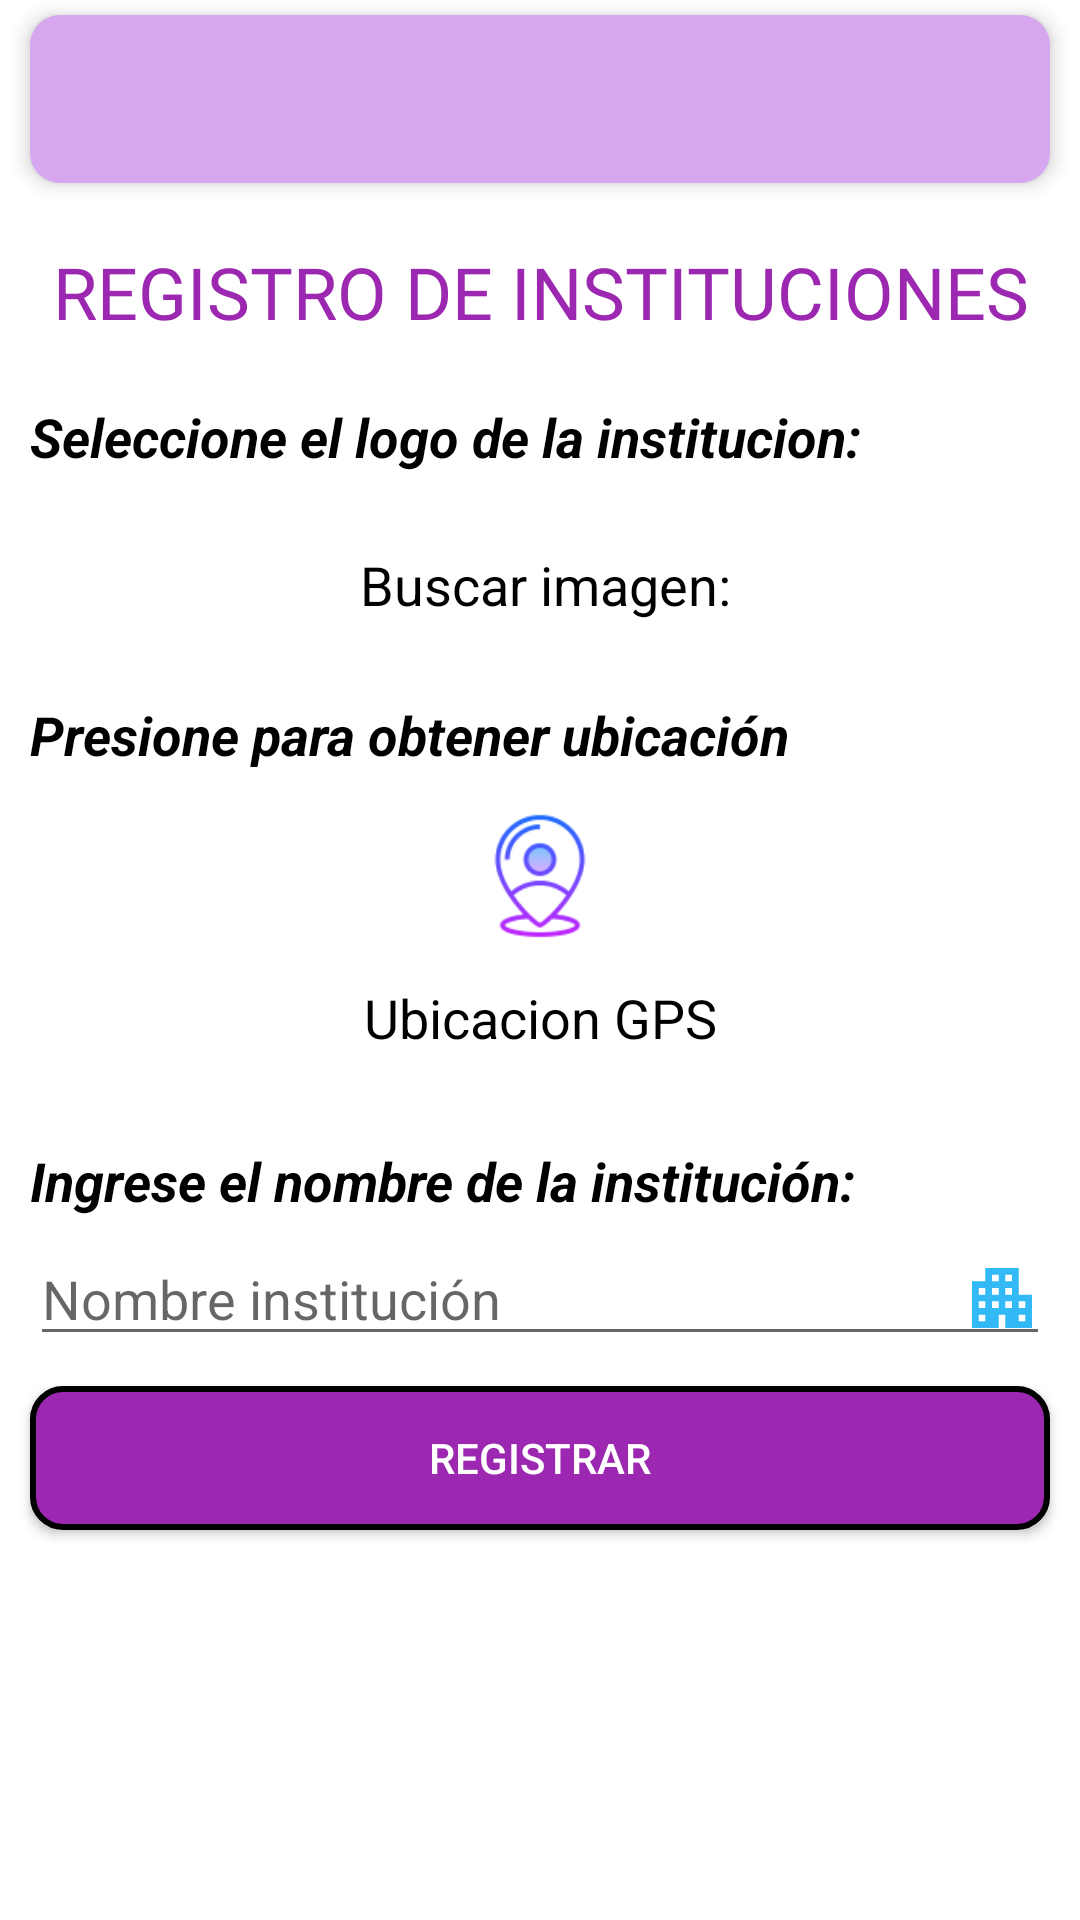

Screen size 1080w x 1920h. Icon name, then its box in pixels as (x1, y1, x2, y2):
user location: (494, 814, 586, 938)
